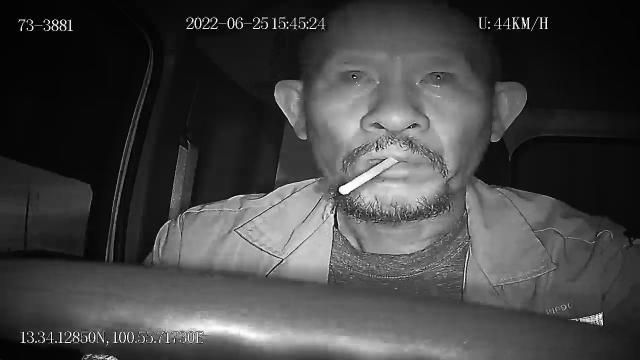SafeDriving: (408, 58, 464, 94), (330, 57, 384, 92)
Smoking: (338, 158, 398, 195)
